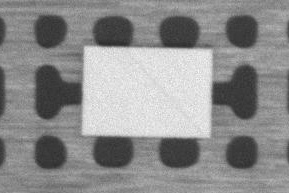DIE_CRACK: (127, 51, 204, 133)
